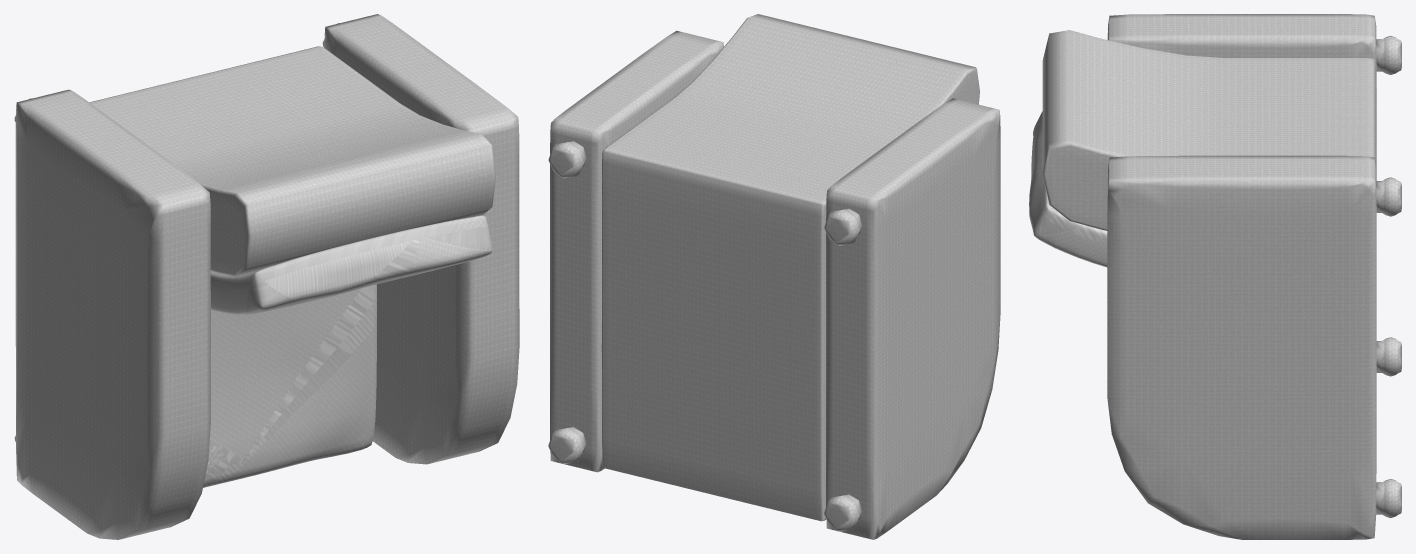
The model's file is Armchair_208.obj.
3 views of the same model, side by side, from view 1: azimuth 30°, elevation 25°; view 2: azimuth 150°, elevation 25°; view 3: azimuth 270°, elevation 25° (orthographic). The views are drawn at different scales.
Parts seen in each view (by area): view 1: Armchair_208; view 2: Armchair_208; view 3: Armchair_208.
Boxes of the visible parts, left/top/right/bottom form: Armchair_208: left=14, top=14, right=519, bottom=539; Armchair_208: left=548, top=14, right=1000, bottom=539; Armchair_208: left=1029, top=14, right=1401, bottom=539.
Bounding box in the file's own units: 0.8534 × 0.8765 × 0.7977.
Materials: 1 (1 with a texture image).
